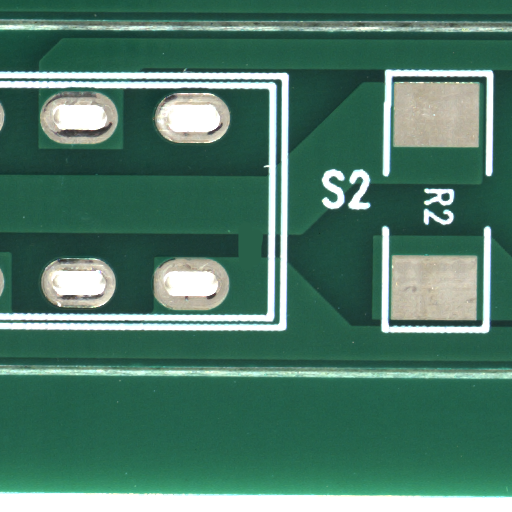Short: (247, 245, 287, 293)
